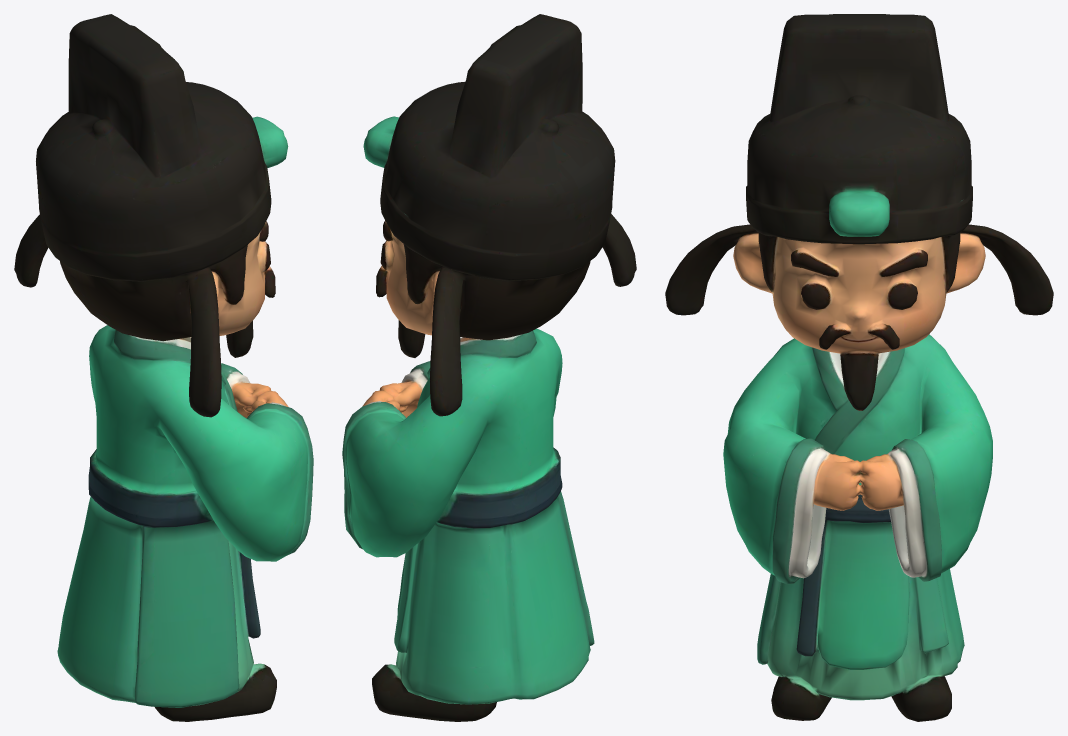
File: junzi.glb
3 renders of one model, left to right at view 1: azimuth 30°, elevation 25°; view 2: azimuth 150°, elevation 25°; view 3: azimuth 270°, elevation 25°, orthographic. The views are drawn at different scales.
Parts seen in each view (by area): view 1: tripo_node_73cd59be-46ac-450c-a979-c0b7b5bf76f9; view 2: tripo_node_73cd59be-46ac-450c-a979-c0b7b5bf76f9; view 3: tripo_node_73cd59be-46ac-450c-a979-c0b7b5bf76f9.
Boxes of the visible parts, bbox=[...] form: tripo_node_73cd59be-46ac-450c-a979-c0b7b5bf76f9: bbox=[14, 14, 313, 721]; tripo_node_73cd59be-46ac-450c-a979-c0b7b5bf76f9: bbox=[342, 14, 636, 721]; tripo_node_73cd59be-46ac-450c-a979-c0b7b5bf76f9: bbox=[665, 14, 1053, 721].
Bounding box in the file's own units: 0.3581 × 1 × 0.5382.
1 material, 1 textured.
